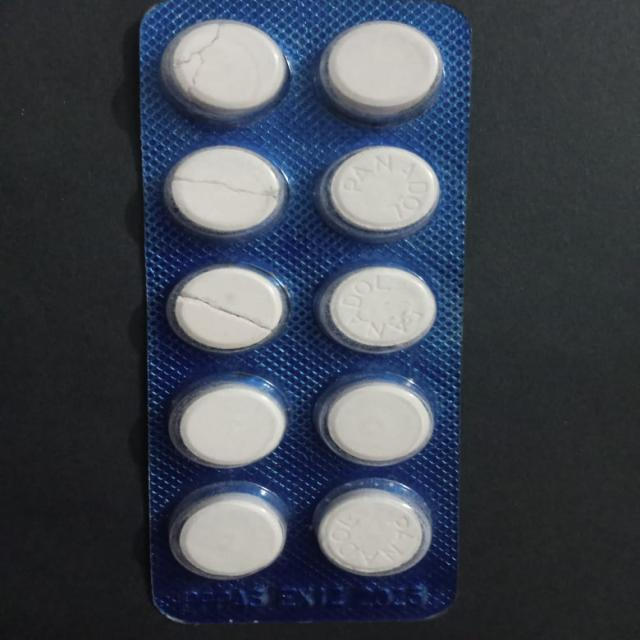defect: (158, 16, 292, 123), (163, 143, 292, 242), (168, 261, 289, 354)
